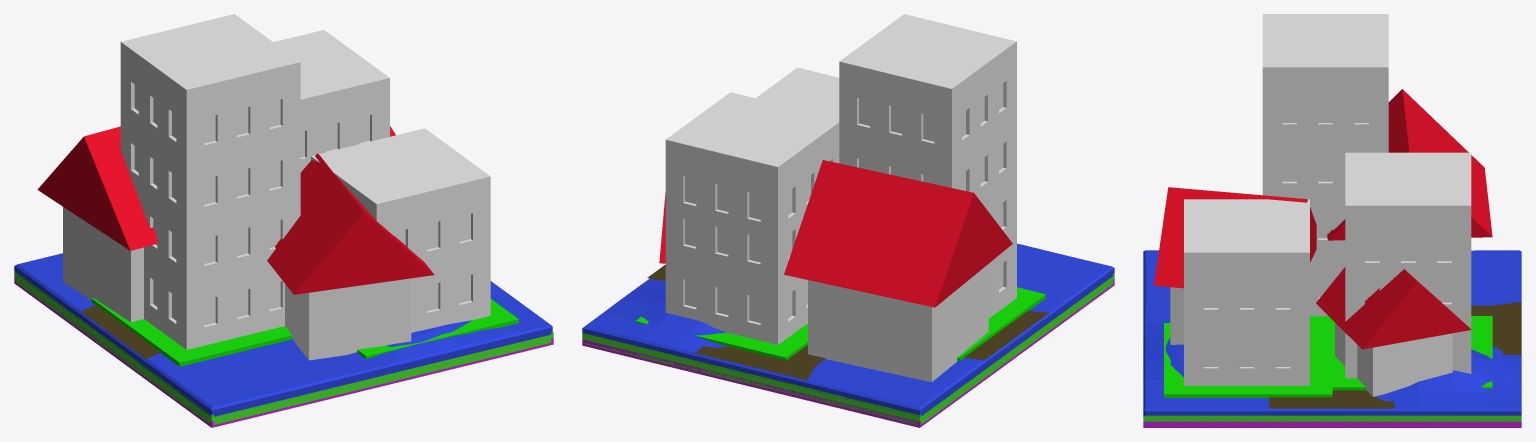
The model's file is tiles.fbx.
The picture shows the model from 3 angles, left to right: view 1: azimuth 30°, elevation 25°; view 2: azimuth 150°, elevation 25°; view 3: azimuth 270°, elevation 25°; orthographic projection. The views are drawn at different scales.
Parts seen in each view (by area): view 1: city_block, village_block, default, warzone, road_straight; view 2: city_block, village_block, warzone, default, road_curve, road_straight; view 3: city_block, village_block, warzone, default, road_curve.
Part boxes in pixels (bbox=[...]): city_block: bbox=[91, 14, 518, 366]; village_block: bbox=[37, 126, 434, 360]; default: bbox=[15, 253, 551, 424]; warzone: bbox=[14, 253, 553, 427]; road_straight: bbox=[80, 305, 160, 359]; city_block: bbox=[635, 14, 1045, 361]; village_block: bbox=[659, 160, 1012, 382]; warzone: bbox=[582, 261, 1114, 427]; default: bbox=[584, 243, 1113, 424]; road_curve: bbox=[647, 264, 825, 379]; road_straight: bbox=[964, 311, 1049, 360]; city_block: bbox=[1164, 14, 1492, 397]; village_block: bbox=[1154, 89, 1492, 396]; warzone: bbox=[1143, 250, 1521, 427]; default: bbox=[1145, 250, 1518, 425]; road_curve: bbox=[1269, 302, 1521, 408].
Size of the model in its own units: 600 by 475 by 600.
